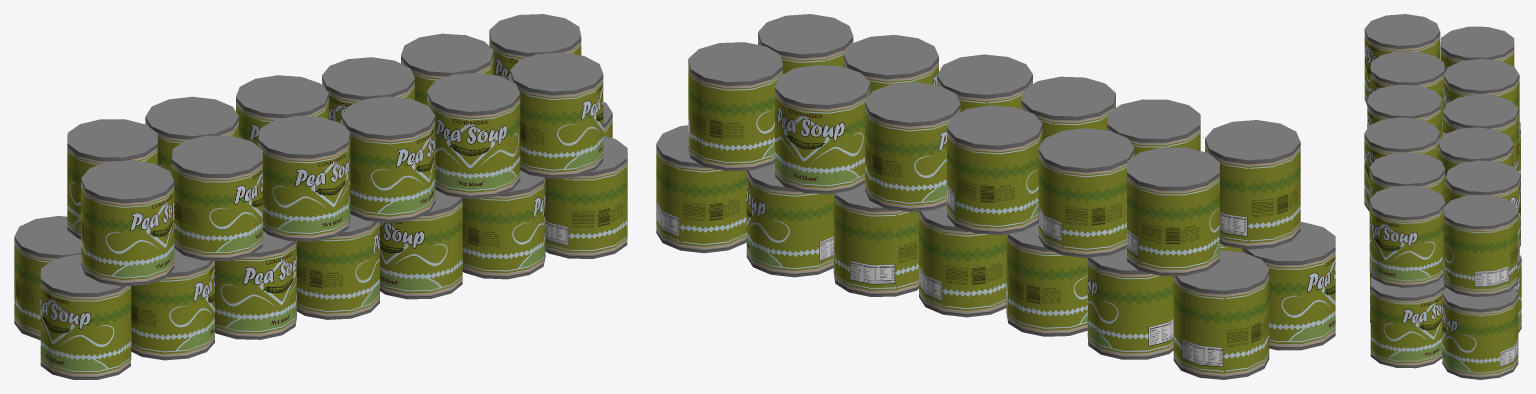
File: Canner_Food2.fbx
3 views of the same model, side by side, from view 1: azimuth 30°, elevation 25°; view 2: azimuth 150°, elevation 25°; view 3: azimuth 270°, elevation 25° (orthographic). The views are drawn at different scales.
Parts seen in each view (by area): view 1: BunkerFoodCanBulk_f; view 2: BunkerFoodCanBulk_f; view 3: BunkerFoodCanBulk_f.
Part boxes in pixels (x1,y1,x2,y2): BunkerFoodCanBulk_f: (14,14,627,379); BunkerFoodCanBulk_f: (656,14,1335,379); BunkerFoodCanBulk_f: (1364,14,1521,379).
Size of the model in its own units: 1.21 by 0.3327 by 0.3363.
Materials: 2 (1 with a texture image).
